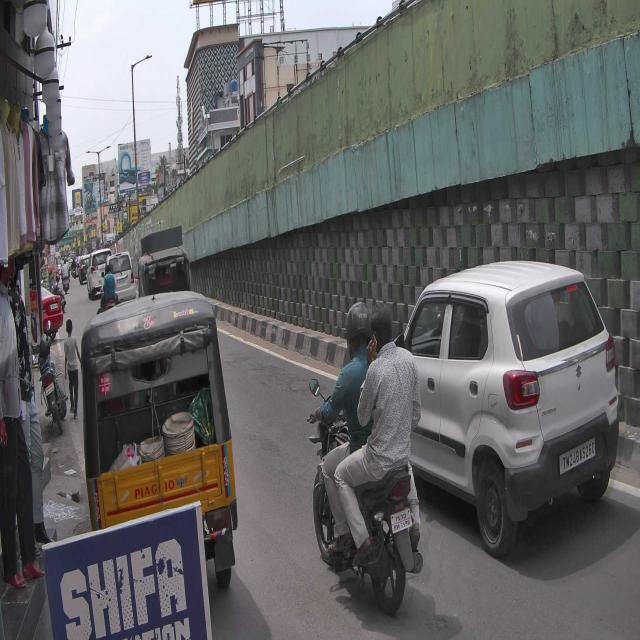double_rider: (306, 299, 423, 617)
